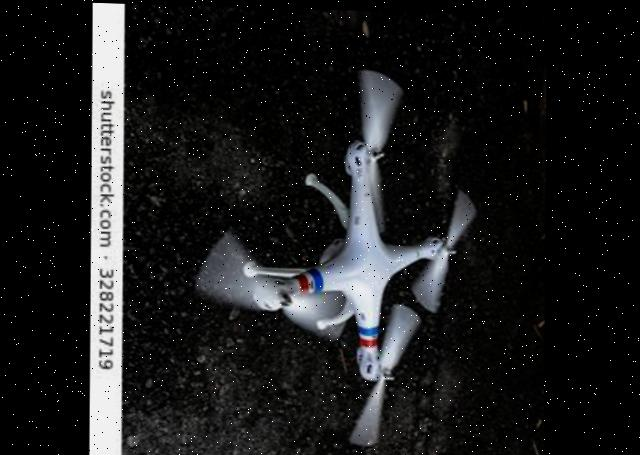drone: (192, 25, 514, 455)
